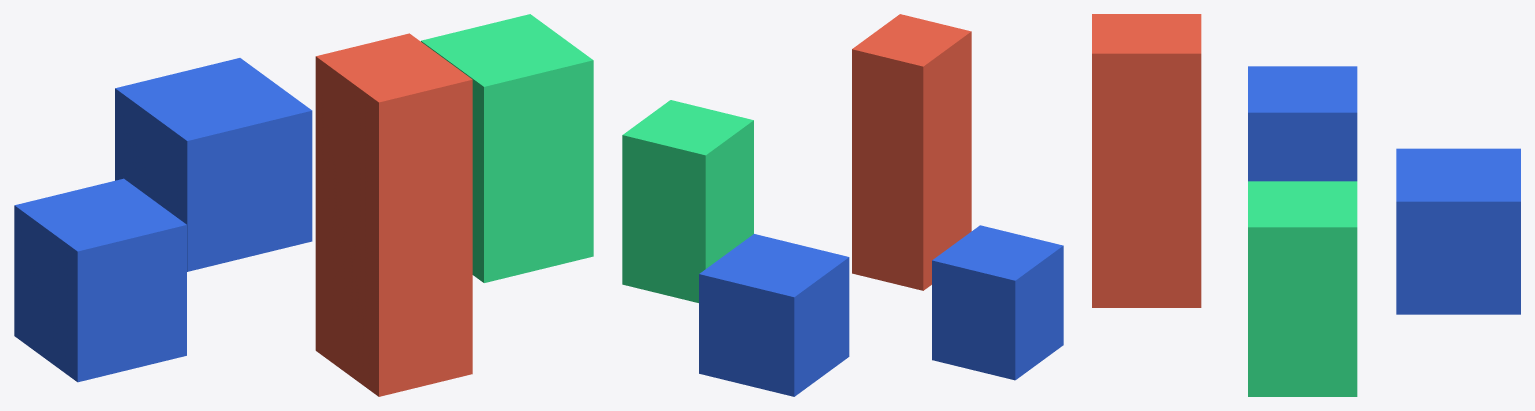
File: engine-calibration.gltf
3 views of the same model, side by side, from view 1: azimuth 30°, elevation 25°; view 2: azimuth 150°, elevation 25°; view 3: azimuth 270°, elevation 25° (orthographic). The views are drawn at different scales.
Parts seen in each view (by area): view 1: FixtureBattery, FixtureEngine, FixtureCoolant, FixtureAirFilter; view 2: FixtureBattery, FixtureCoolant, FixtureEngine, FixtureAirFilter; view 3: FixtureBattery, FixtureCoolant, FixtureEngine, FixtureAirFilter.
Part boxes in pixels (box(x1,y1,x2,y2)): FixtureBattery: box(315, 33, 472, 396); FixtureEngine: box(115, 58, 312, 271); FixtureCoolant: box(421, 14, 593, 282); FixtureAirFilter: box(14, 178, 186, 382); FixtureBattery: box(852, 14, 971, 290); FixtureCoolant: box(622, 100, 753, 302); FixtureEngine: box(699, 234, 849, 396); FixtureAirFilter: box(932, 225, 1063, 380); FixtureBattery: box(1092, 14, 1201, 307); FixtureCoolant: box(1248, 181, 1357, 396); FixtureEngine: box(1396, 148, 1520, 314); FixtureAirFilter: box(1248, 66, 1357, 181).
Size of the model in its own units: 3.3 by 1.8 by 2.75.
